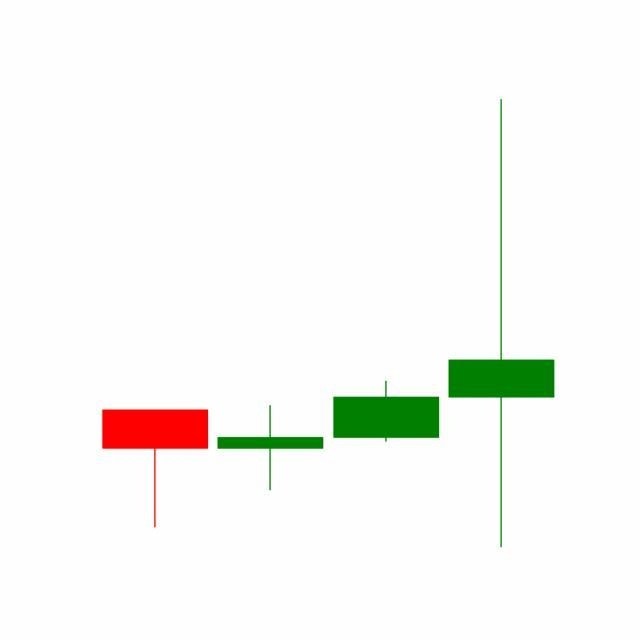Marubozu: (329, 380, 445, 443)
